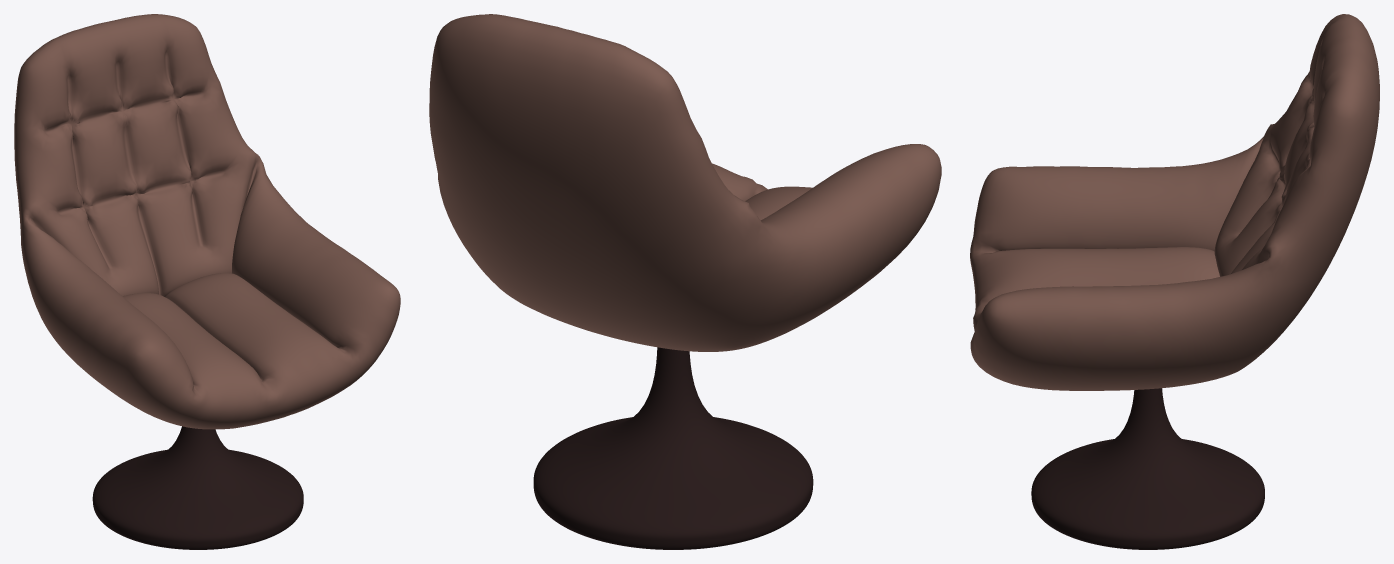
File: cushion_chair-transformed.glb
3 renders of one model, left to right at view 1: azimuth 30°, elevation 25°; view 2: azimuth 150°, elevation 25°; view 3: azimuth 270°, elevation 25°, orthographic. The views are drawn at different scales.
Parts seen in each view (by area): view 1: Cube_Material_0, Cylinder_Material.001_0; view 2: Cube_Material_0, Cylinder_Material.001_0; view 3: Cube_Material_0, Cylinder_Material.001_0.
Boxes of the visible parts, left/top/right/bottom form: Cube_Material_0: left=14, top=14, right=400, bottom=429; Cylinder_Material.001_0: left=92, top=426, right=303, bottom=549; Cube_Material_0: left=429, top=14, right=941, bottom=351; Cylinder_Material.001_0: left=533, top=347, right=813, bottom=549; Cube_Material_0: left=970, top=14, right=1379, bottom=390; Cylinder_Material.001_0: left=1031, top=388, right=1264, bottom=549.
Bounding box in the file's own units: 2.26 × 3.24 × 2.61.
